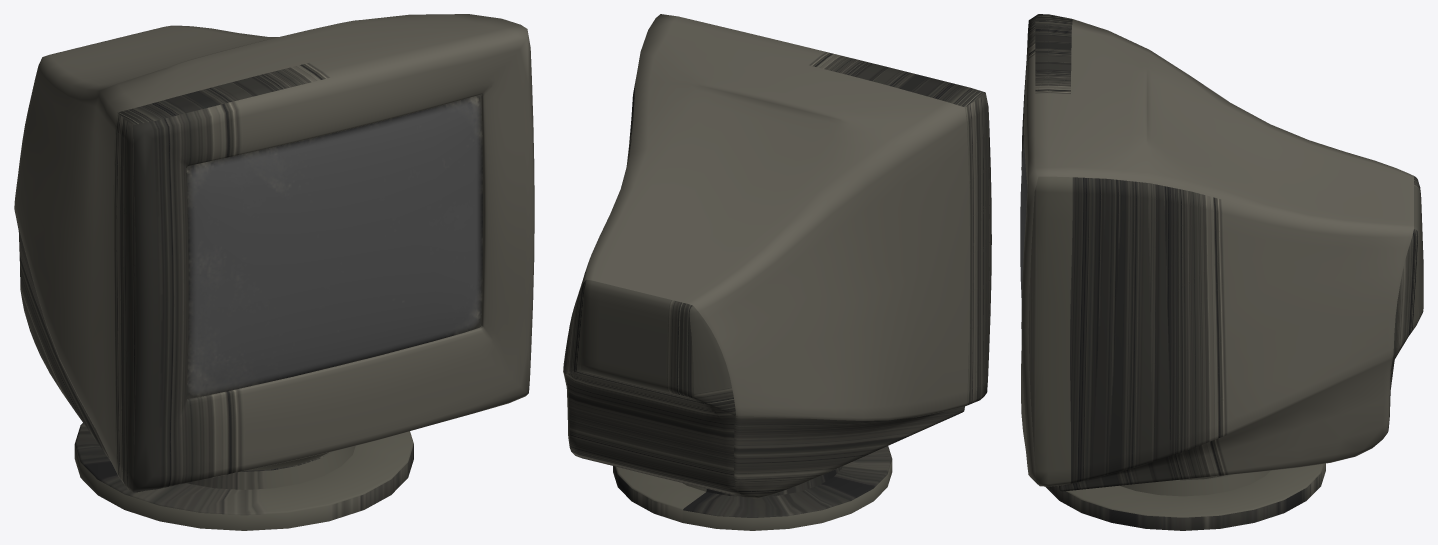
File: old monitor.fbx
The picture shows the model from 3 angles, left to right: view 1: azimuth 30°, elevation 25°; view 2: azimuth 150°, elevation 25°; view 3: azimuth 270°, elevation 25°; orthographic projection. The views are drawn at different scales.
Visible parts, largest first — view 1: CRT_Monitor; view 2: CRT_Monitor; view 3: CRT_Monitor.
Boxes of the visible parts, x1,y1,x2,y2 form: CRT_Monitor: [14, 14, 534, 530]; CRT_Monitor: [563, 14, 991, 530]; CRT_Monitor: [1020, 14, 1423, 530].
Bounding box in the file's own units: 40.59 × 43.3 × 42.01.
2 materials, 2 textured.
